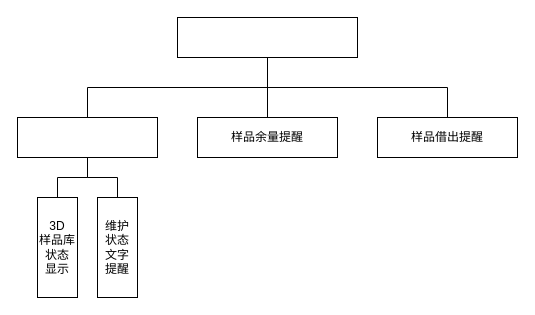
Image size: 535x315. Some labels were removed from this diagram. The centre of each missing label's shape, as x and y in pixels:
样品库监控信息管理模块: pixel 267 37
维护状态提醒: pixel 87 137
